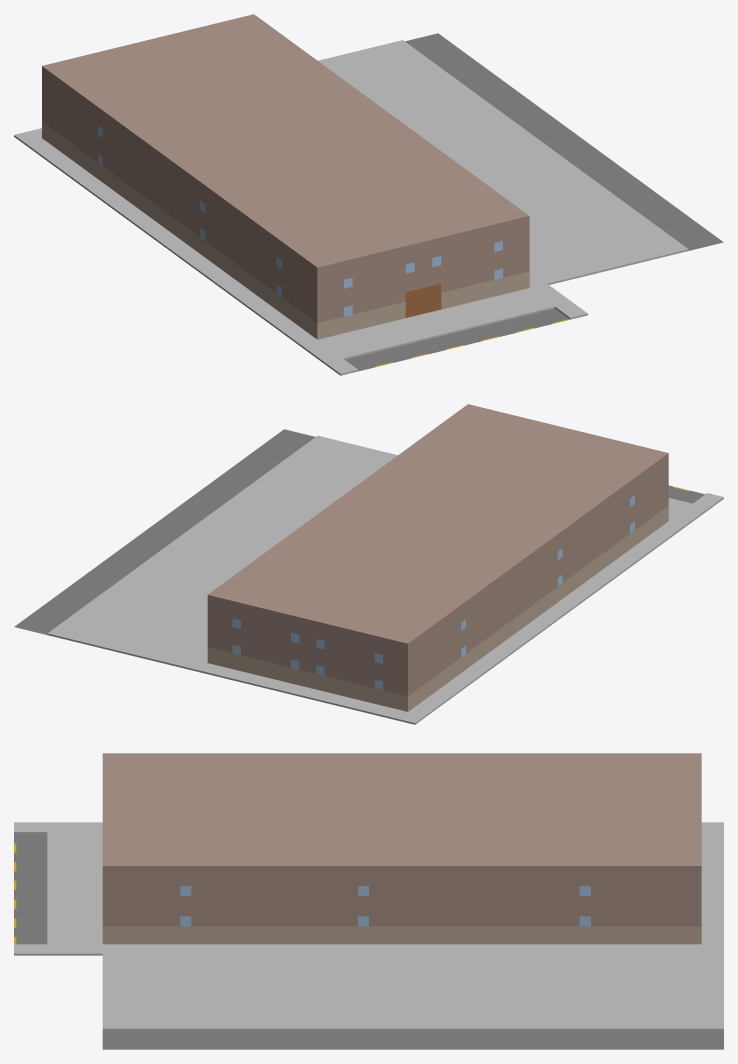
Rendered from guardia_civil.glb.
3 renders of one model, top to bottom at view 1: azimuth 30°, elevation 25°; view 2: azimuth 150°, elevation 25°; view 3: azimuth 270°, elevation 25°, orthographic. The views are drawn at different scales.
Visible parts, largest first — view 1: Plane; view 2: Plane; view 3: Plane.
Part boxes in pixels (left/top/right/bottom): Plane: left=14, top=14, right=723, bottom=375; Plane: left=14, top=404, right=723, bottom=724; Plane: left=14, top=753, right=723, bottom=1049.
Size of what is drawn, in the model's own units: 48 by 8 by 64.
